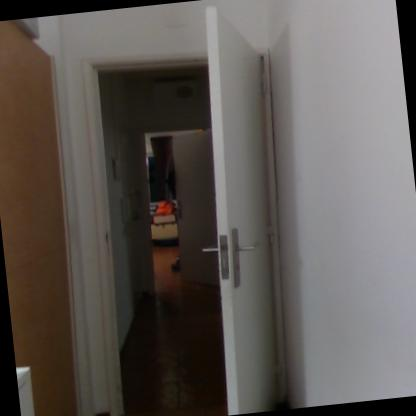open: (66, 0, 325, 415)
